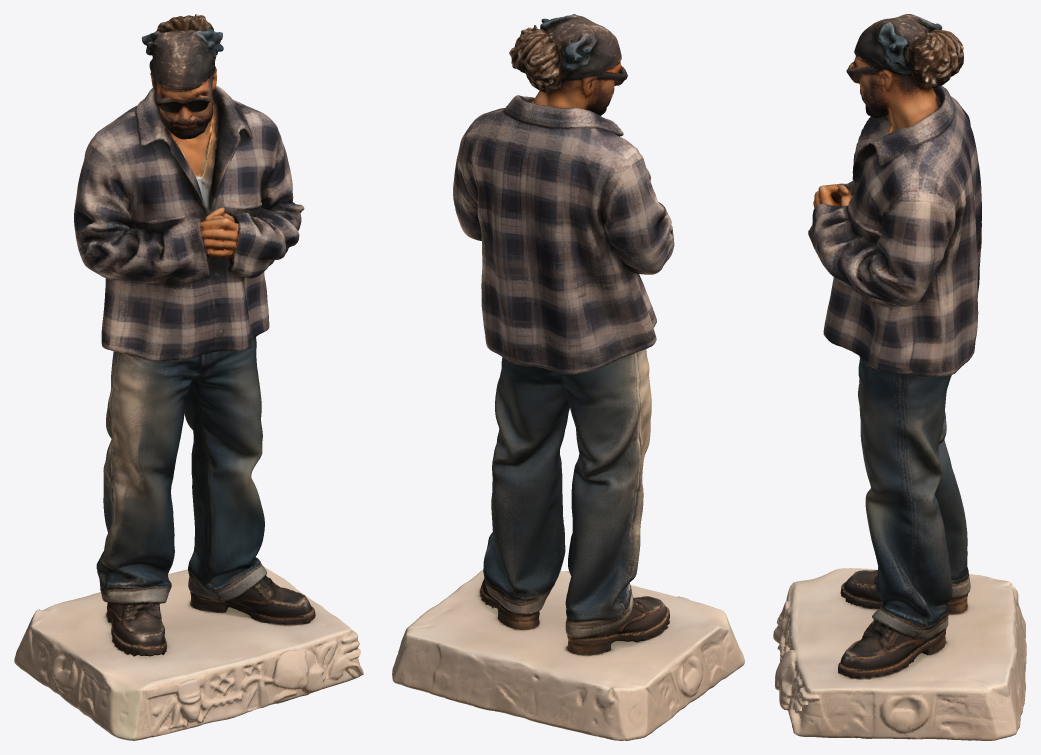
File: hugh-plaid.glb
The picture shows the model from 3 angles, left to right: view 1: azimuth 30°, elevation 25°; view 2: azimuth 150°, elevation 25°; view 3: azimuth 270°, elevation 25°; orthographic projection. The views are drawn at different scales.
Visible parts, largest first — view 1: tripo_node_7e2f97ee-4339-435b-8456-c503ea1f3b96; view 2: tripo_node_7e2f97ee-4339-435b-8456-c503ea1f3b96; view 3: tripo_node_7e2f97ee-4339-435b-8456-c503ea1f3b96.
Part boxes in pixels (left/top/right/bottom): tripo_node_7e2f97ee-4339-435b-8456-c503ea1f3b96: left=14, top=14, right=363, bottom=740; tripo_node_7e2f97ee-4339-435b-8456-c503ea1f3b96: left=392, top=14, right=744, bottom=740; tripo_node_7e2f97ee-4339-435b-8456-c503ea1f3b96: left=773, top=14, right=1026, bottom=740.
Size of the model in its own units: 0.4134 by 0.9996 by 0.3499.
Materials: 1 (1 with a texture image).
